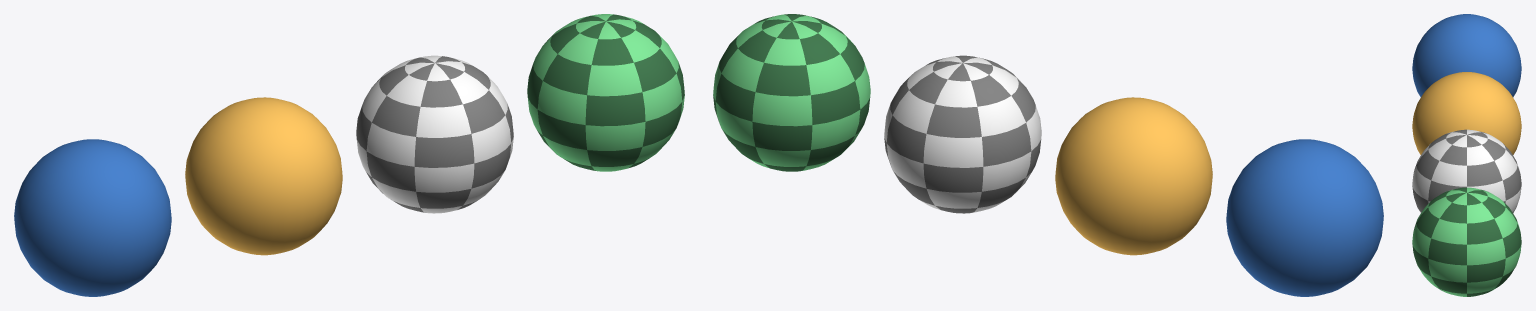
File: BaseColorTest.gltf
3 renders of one model, left to right at view 1: azimuth 30°, elevation 25°; view 2: azimuth 150°, elevation 25°; view 3: azimuth 270°, elevation 25°, orthographic. The views are drawn at different scales.
Parts seen in each view (by area): view 1: ColorDark, ColorTexture, ColorBright, TextureOnly; view 2: ColorDark, ColorTexture, ColorBright, TextureOnly; view 3: ColorTexture, TextureOnly, ColorDark, ColorBright.
Boxes of the visible parts, <box> form: ColorDark: <box>14,139,171,296</box>; ColorTexture: <box>527,14,684,171</box>; ColorBright: <box>185,97,342,255</box>; TextureOnly: <box>356,55,513,213</box>; ColorDark: <box>1226,139,1383,296</box>; ColorTexture: <box>713,14,870,171</box>; ColorBright: <box>1055,97,1212,255</box>; TextureOnly: <box>884,55,1041,213</box>; ColorTexture: <box>1412,187,1521,296</box>; TextureOnly: <box>1412,129,1521,212</box>; ColorDark: <box>1412,14,1521,97</box>; ColorBright: <box>1412,72,1521,154</box>.
Bounding box in the file's own units: 7.6 × 1.6 × 1.6.
4 materials, 2 textured.
